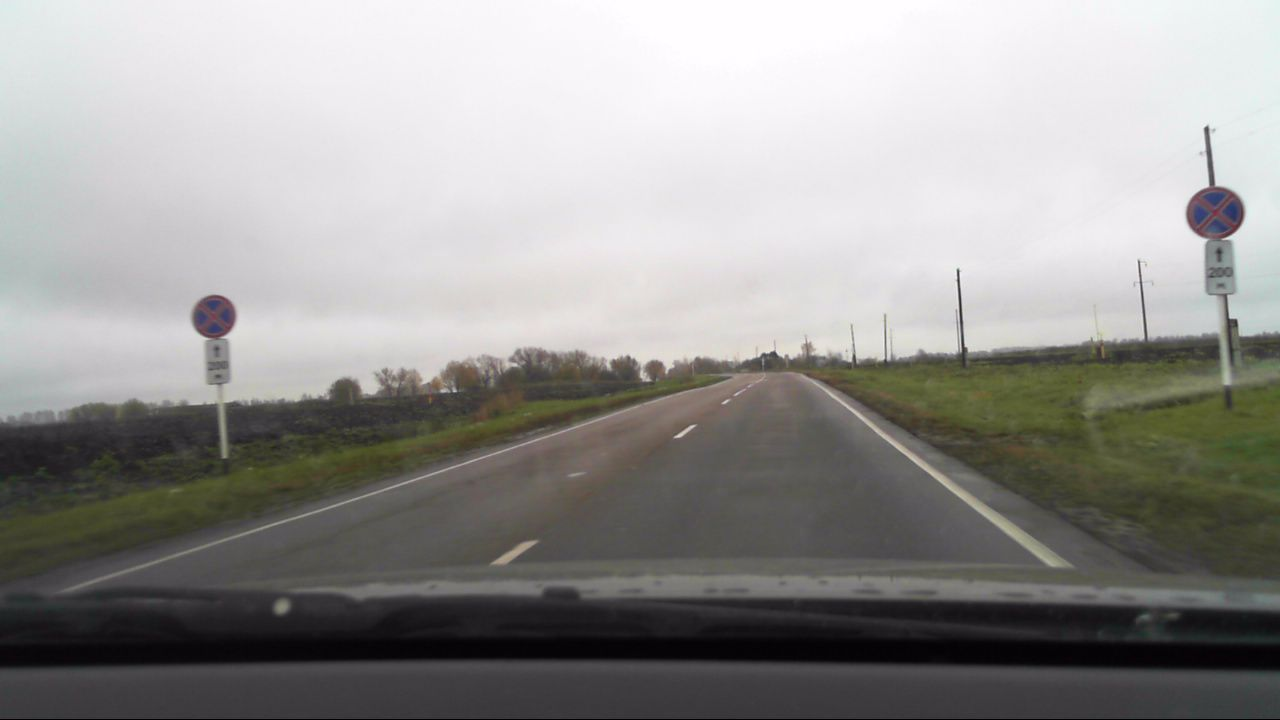No Parking: (191, 294, 233, 335)
